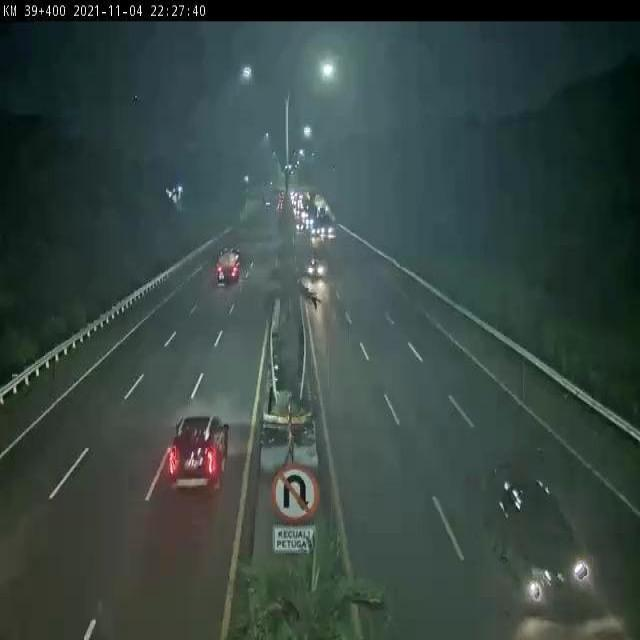car: (495, 480, 593, 615), (168, 415, 230, 496), (308, 254, 326, 278)
truck-l-: (216, 245, 240, 287)
